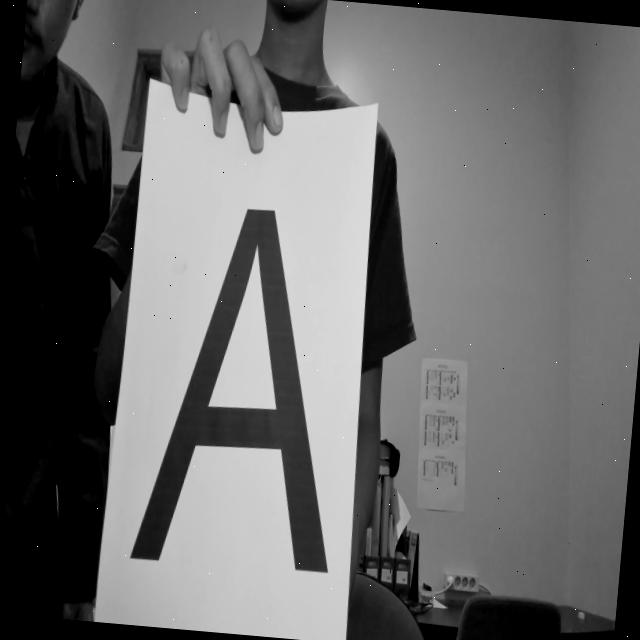a: (118, 180, 366, 592)
